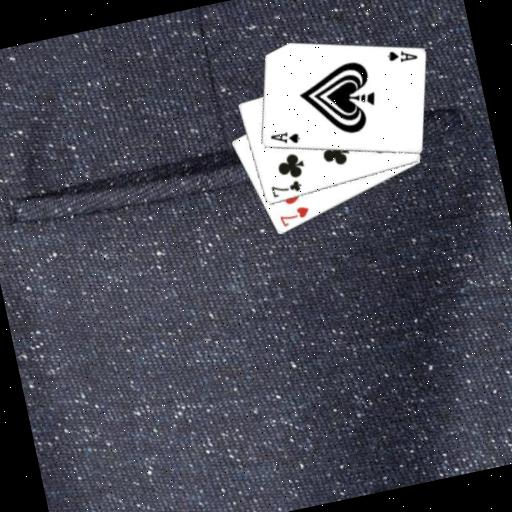7C: (267, 176, 304, 200)
7H: (274, 202, 313, 230)
AS: (383, 43, 420, 67), (265, 126, 301, 150)
